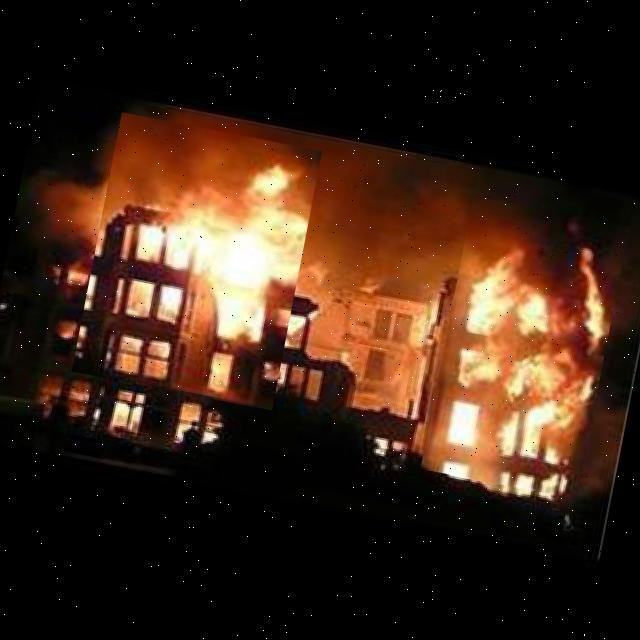fire: (71, 112, 322, 410), (420, 196, 630, 499)
